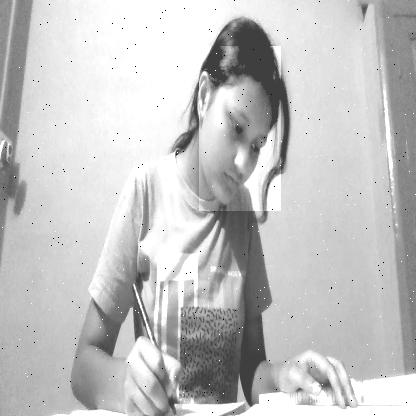Distracted: (200, 46, 282, 211)
